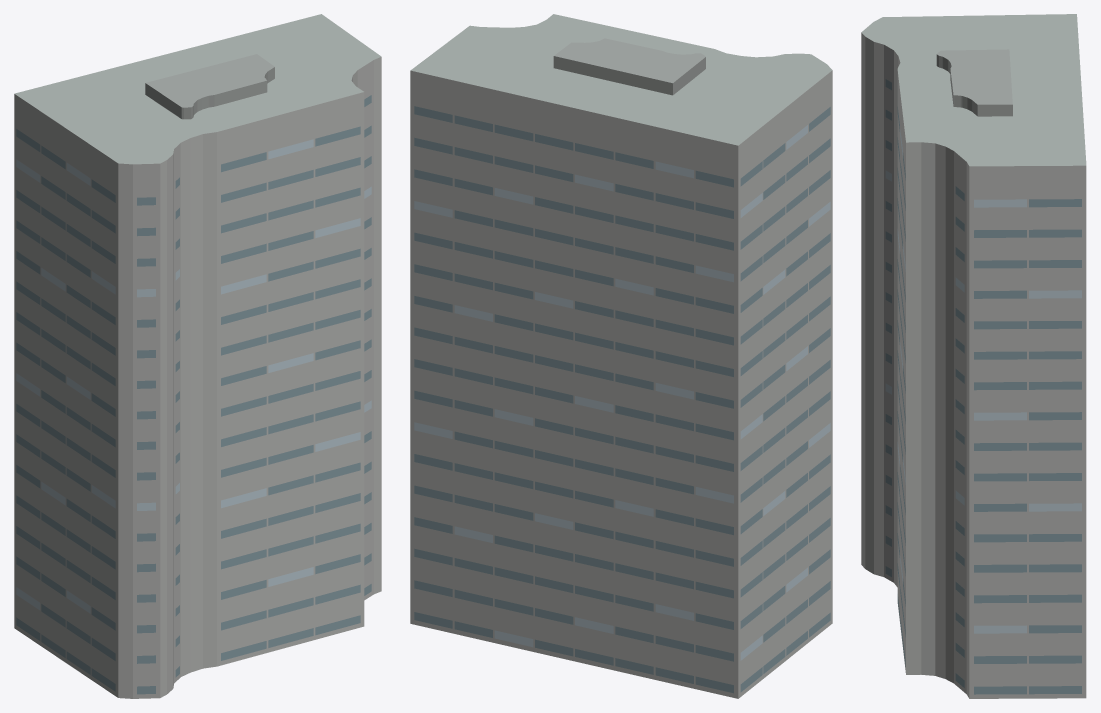
Rendered from residual-three-completion-apt-a10024562.glb.
The picture shows the model from 3 angles, left to right: view 1: azimuth 30°, elevation 25°; view 2: azimuth 150°, elevation 25°; view 3: azimuth 270°, elevation 25°; orthographic projection. The views are drawn at different scales.
Visible parts, largest first — view 1: residual-three-completion-apt-a10024562; view 2: residual-three-completion-apt-a10024562; view 3: residual-three-completion-apt-a10024562.
Boxes of the visible parts, x1=… form: residual-three-completion-apt-a10024562: x1=14, y1=14, x2=381, y2=698; residual-three-completion-apt-a10024562: x1=410, y1=14, x2=832, y2=698; residual-three-completion-apt-a10024562: x1=861, y1=14, x2=1086, y2=698.
Bounding box in the file's own units: 66.7 × 111 × 41.62.
